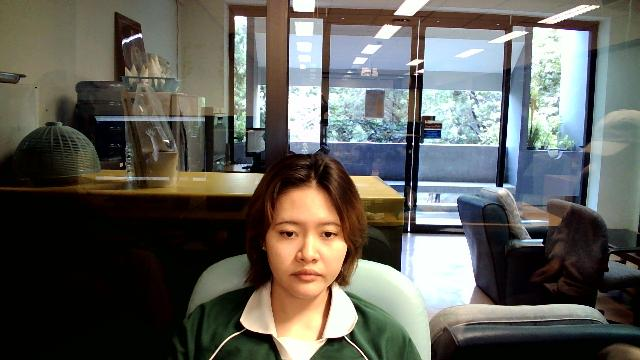fokus: (268, 188, 347, 296)
